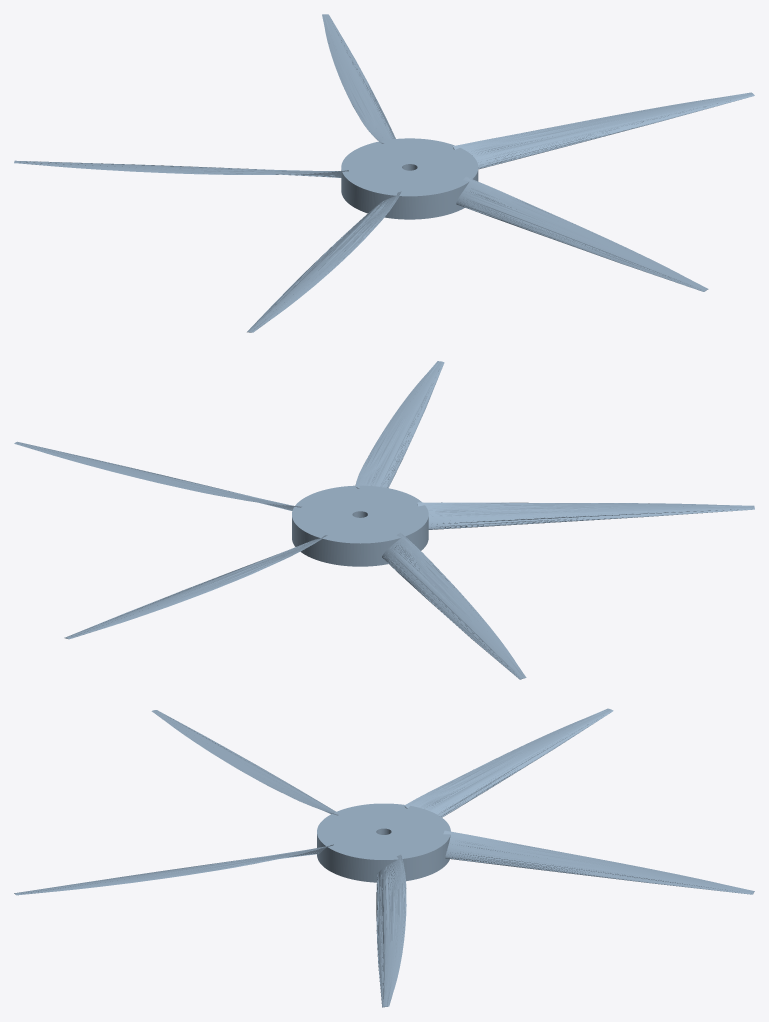
3 views of the same model, one above another, from view 1: azimuth 30°, elevation 25°; view 2: azimuth 150°, elevation 25°; view 3: azimuth 270°, elevation 25° (orthographic). The views are drawn at different scales.
Visible parts, largest first — view 1: 12in-5b.stl; view 2: 12in-5b.stl; view 3: 12in-5b.stl.
Part boxes in pixels (x1,y1,x2,y2): 12in-5b.stl: [14, 14, 754, 332]; 12in-5b.stl: [14, 361, 754, 679]; 12in-5b.stl: [14, 708, 754, 1007].
Bounding box in the file's own units: 0.2769 × 0.0107 × 0.2908.
